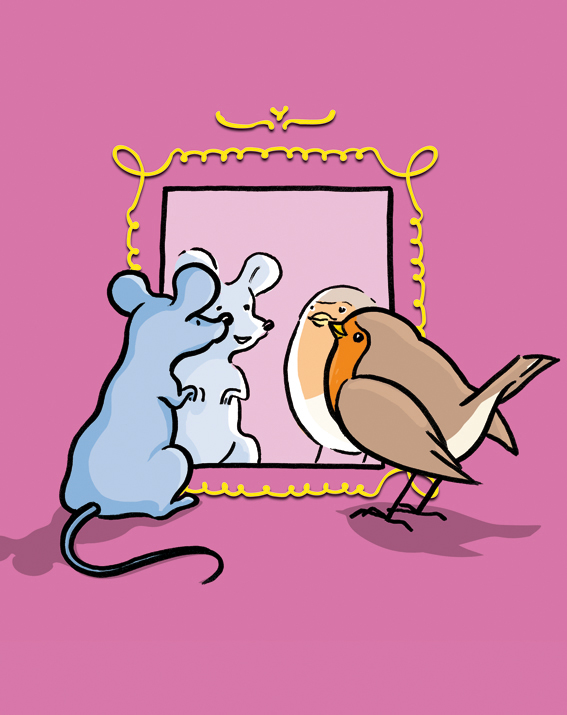bird: (324, 304, 567, 550)
